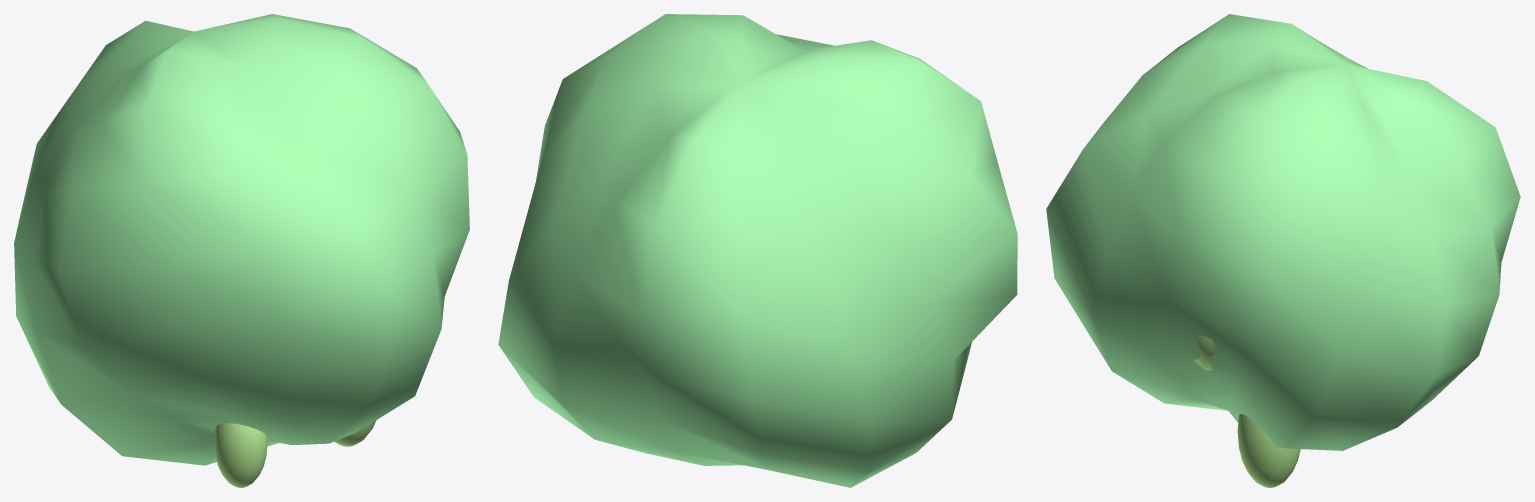
Rendered from item-ectoplasm.glb.
The picture shows the model from 3 angles, left to right: view 1: azimuth 30°, elevation 25°; view 2: azimuth 150°, elevation 25°; view 3: azimuth 270°, elevation 25°; orthographic projection. The views are drawn at different scales.
Bounding box in the file's own units: 0.1092 × 0.1044 × 0.1158.
